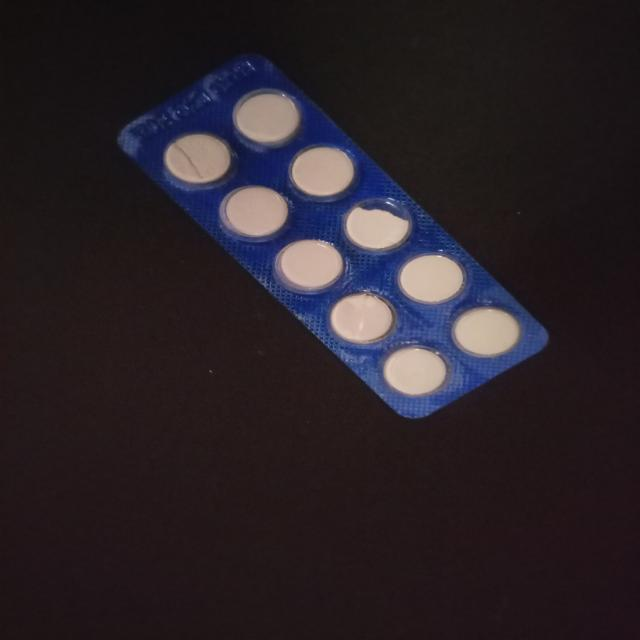defect: (161, 131, 238, 190), (341, 197, 415, 256)
